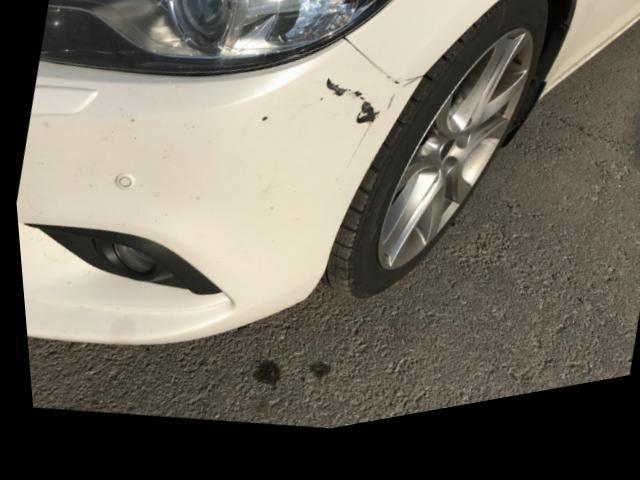scratch: (324, 89, 381, 156)
